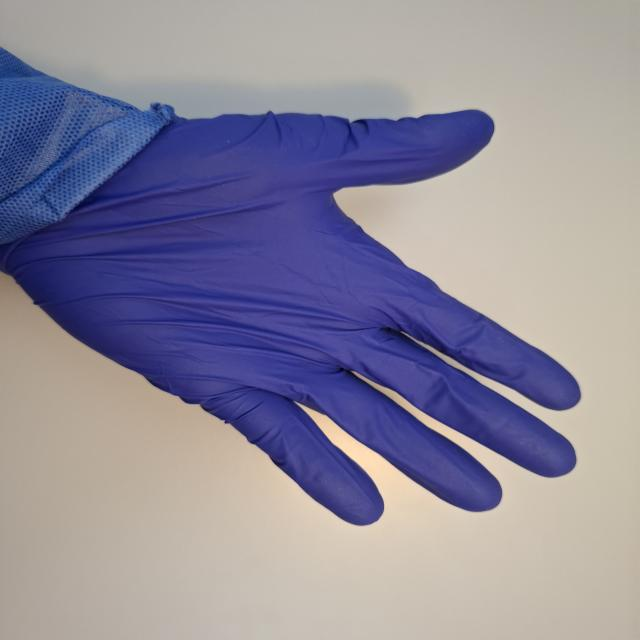glove_on: (13, 106, 588, 530)
